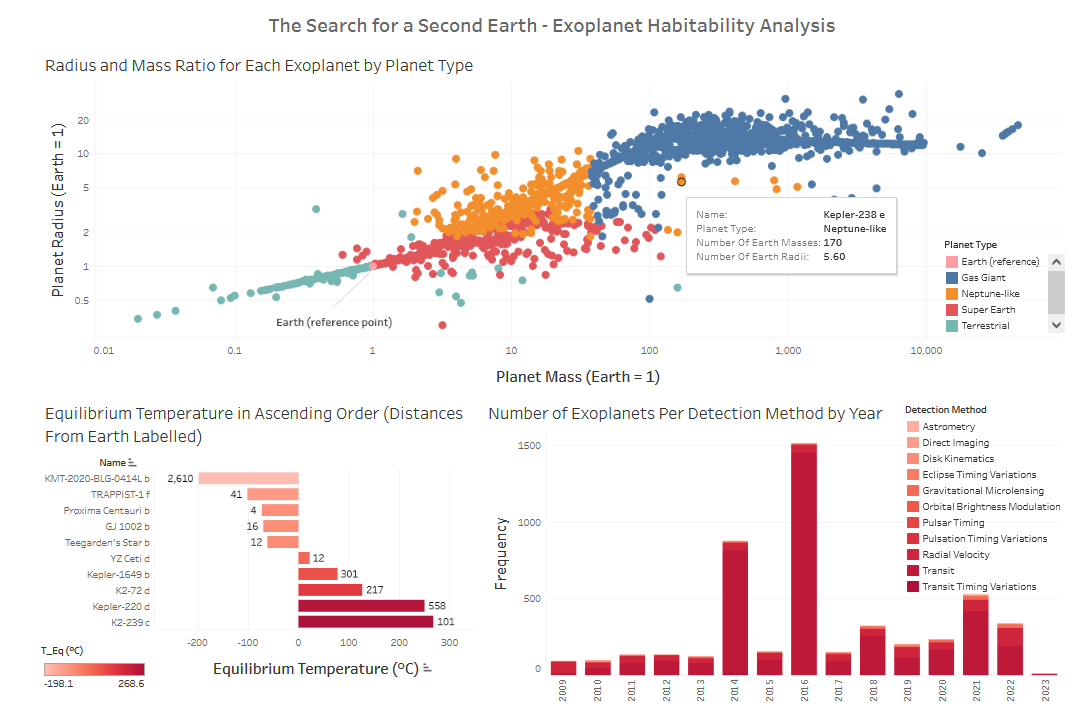

The page's visual inventory and layout, read from the dashboard file:
{"tool":"tableau","page":{"name":"Exoplanet_Dashboard","canvas":[1300,900],"ordinal":0},"visuals":[{"type":"text","box":[8,8,1284,51]},{"type":"worksheet","title":"mass_radius_landscape_of_known_exoplanets","mark":"Circle","rows":["number_of_earth_radii"],"cols":["number_of_earth_masses"],"box":[8,59,1284,436]},{"type":"legend","title":"mass_radius_landscape_of_known_exoplanets","param":"[federated.10yltex0zyrdip1ah1be206xk5m5].[none:planet_type:nk]","box":[1139.7,301,151.7,118]},{"type":"worksheet","title":"T_eq","mark":"Automatic","rows":["name"],"cols":["Calculation_0414257737797637"],"box":[8,495,554,397]},{"type":"worksheet","title":"detection_methods","mark":"Bar","rows":["name"],"cols":["discovery_year"],"box":[562,495,730,397]},{"type":"legend","title":"detection_methods","param":"[federated.10yltex0zyrdip1ah1be206xk5m5].[none:detection_method:nk]","box":[1091,507,206,239]},{"type":"legend","title":"T_eq","param":"[federated.10yltex0zyrdip1ah1be206xk5m5].[sum:Calculation_0414257737797637:qk]","box":[11,808,134,76]}]}

Visuals, with their boxes on the page's 1300x900 design canvas (x1, y1, x2, y2). These are canvas units, not pixel positions in the 1076x717 screenshot, which may show the page scaled, cropped or inside an application window:
text: 8 8 1292 59
"mass_radius_landscape_of_known_exoplanets" worksheet (Circle marks): 8 59 1292 495
"mass_radius_landscape_of_known_exoplanets" legend: 1140 301 1291 419
"T_eq" worksheet: 8 495 562 892
"detection_methods" worksheet (Bar marks): 562 495 1292 892
"detection_methods" legend: 1091 507 1297 746
"T_eq" legend: 11 808 145 884
